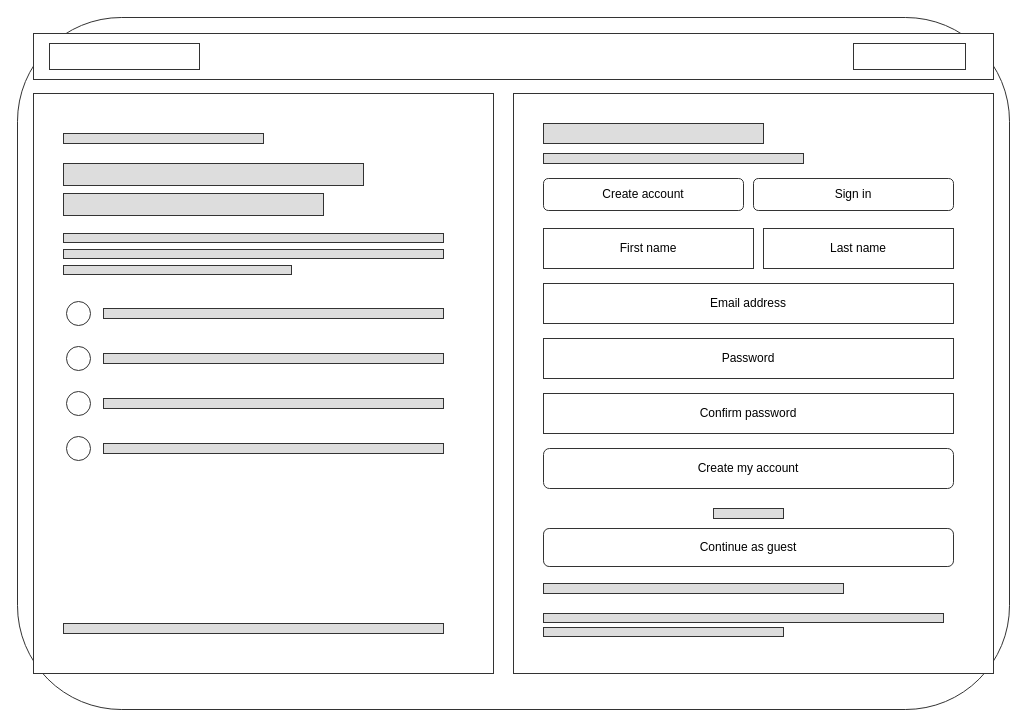
Some shapes in this 1027 by 727 pixel diagram are drawn without their labels. The shapes that lost their labels are listed below. From the top down, each one's box as (x1, y1, x2, y2) in pixels, then its label:
(48, 42, 200, 70): ← Back to home
(852, 42, 966, 70): Need help?
